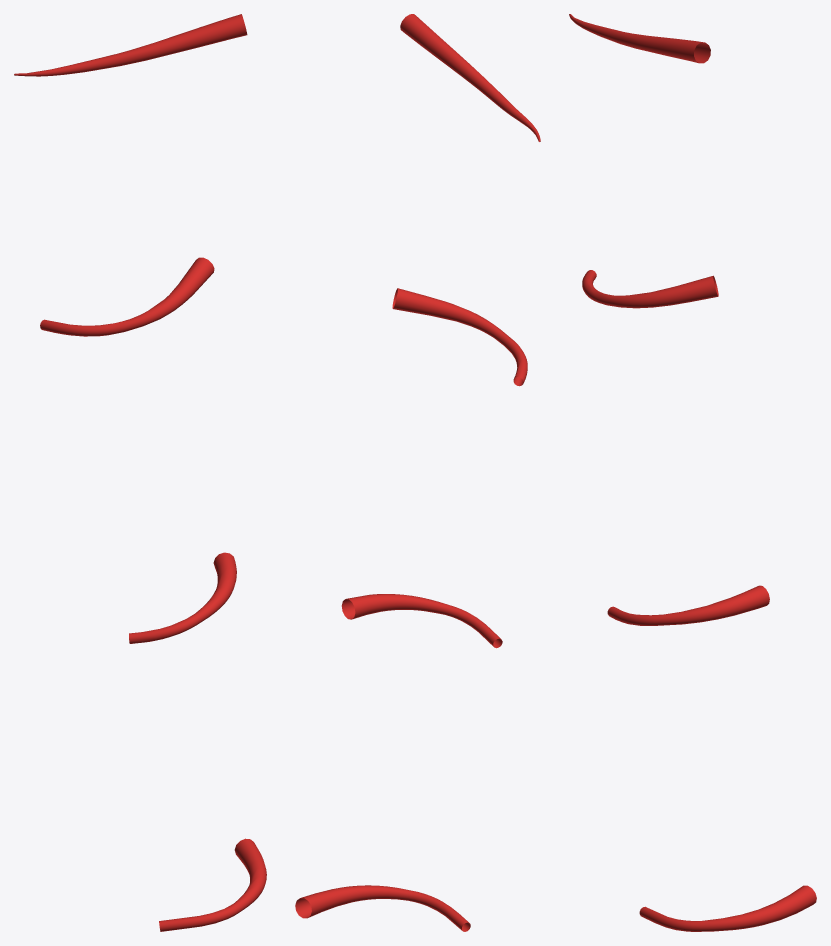
File: circulatorio-perforating-femoral-arteries-r.glb
3 views of the same model, side by side, from view 1: azimuth 30°, elevation 25°; view 2: azimuth 150°, elevation 25°; view 3: azimuth 330°, elevation 25° (orthographic).
Visible parts, largest first — view 1: Perforating femoral arteries.r; view 2: Perforating femoral arteries.r; view 3: Perforating femoral arteries.r.
Part boxes in pixels (left/top/right/bottom): Perforating femoral arteries.r: left=14, top=14, right=266, bottom=931; Perforating femoral arteries.r: left=295, top=14, right=540, bottom=931; Perforating femoral arteries.r: left=569, top=14, right=816, bottom=931.
Size of the model in its own units: 0.0515 by 0.1822 by 0.0216.
